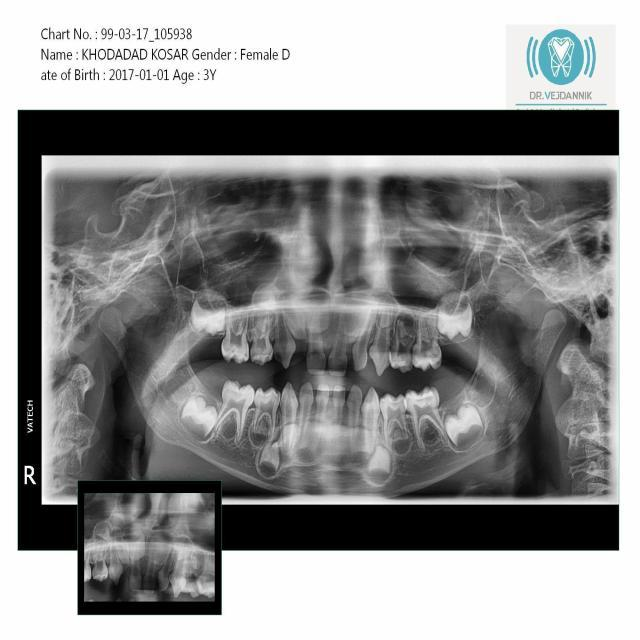Sterngold Implant: (397, 350, 416, 371), (423, 347, 442, 363), (272, 348, 285, 364), (416, 395, 436, 404), (412, 345, 422, 362), (230, 387, 243, 400), (390, 399, 401, 408), (242, 350, 248, 356), (231, 347, 237, 352)
